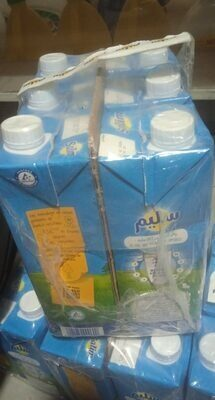Salim: (11, 20, 204, 380)
